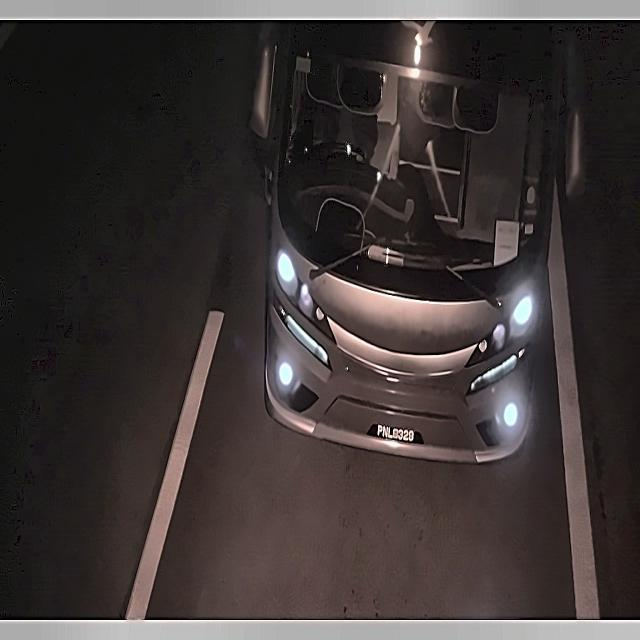car: (366, 417, 427, 451)
